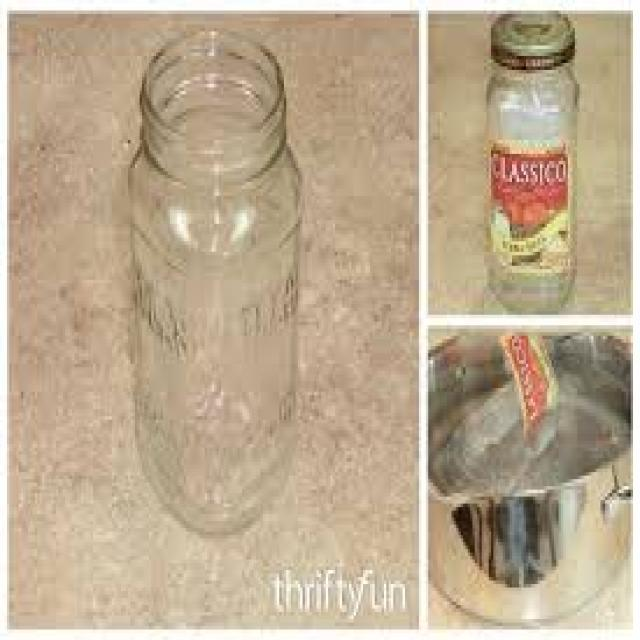glass: (128, 25, 298, 532), (484, 56, 573, 308)
metal: (429, 325, 629, 626), (489, 7, 573, 66)
